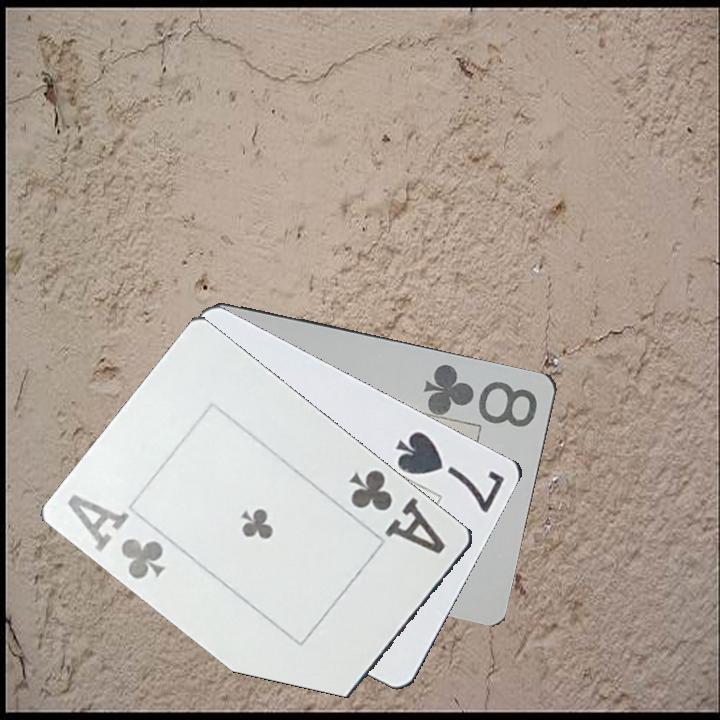7s: (392, 427, 508, 516)
8c: (420, 360, 541, 430)
Ac: (345, 463, 450, 557), (64, 490, 170, 583)
